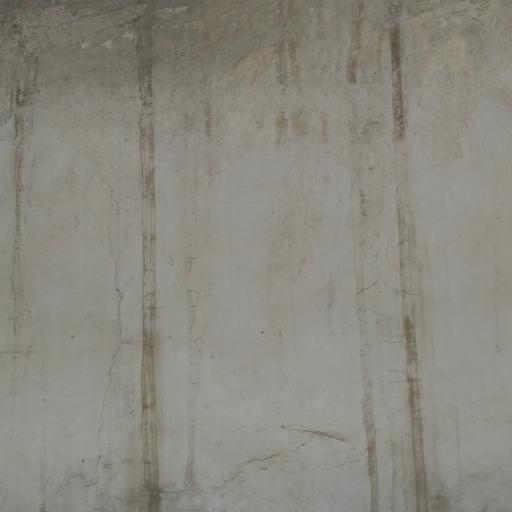stain: (264, 16, 486, 512), (108, 18, 213, 512), (0, 0, 42, 376)
